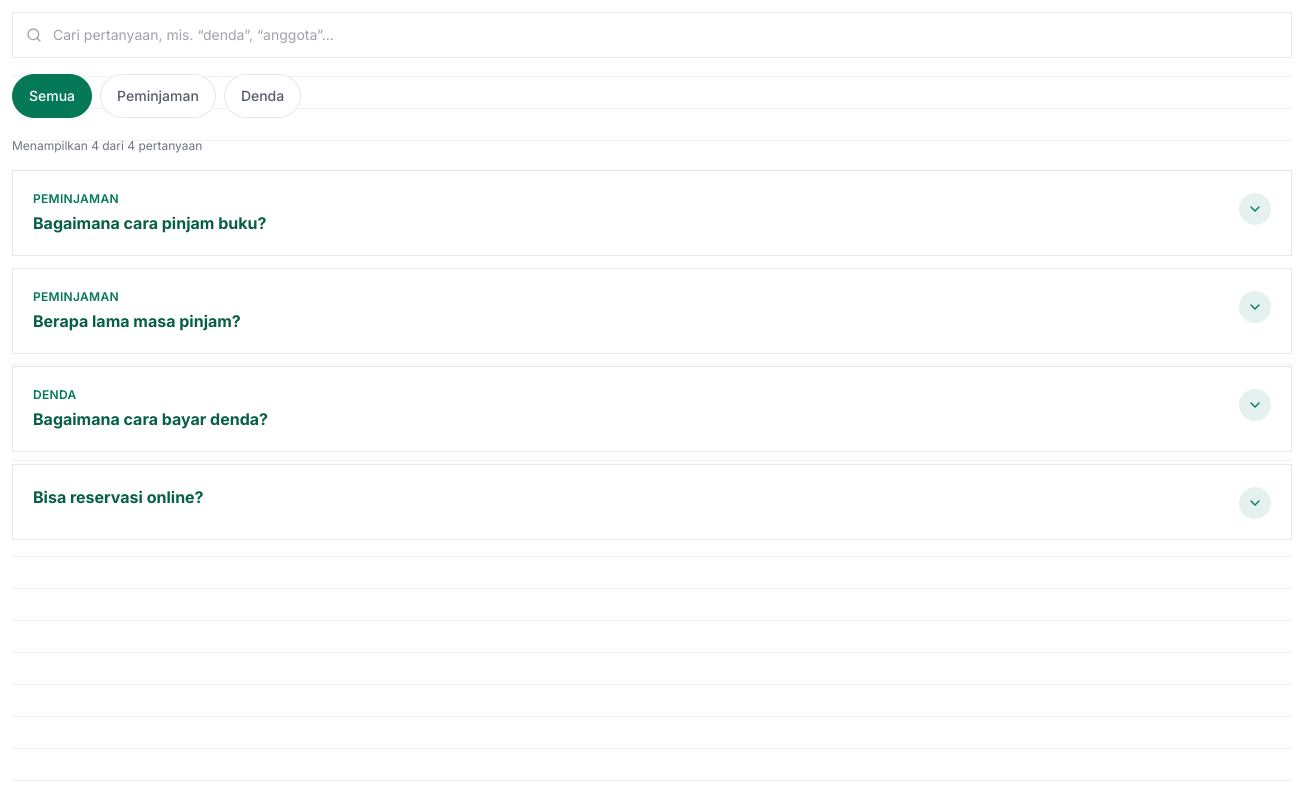
FaqAccordion › filters FAQs by category
Click the button "Peminjaman": (158, 96) [100,74,216,118]
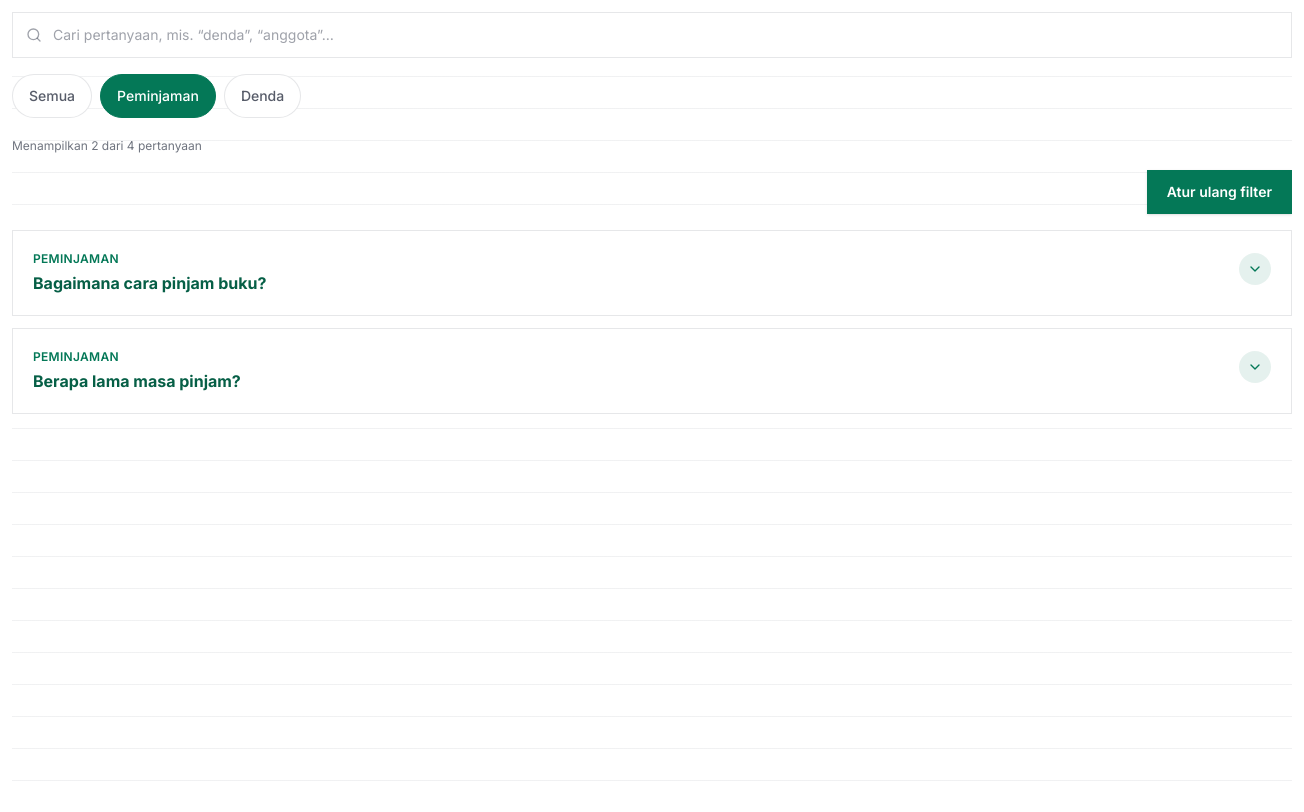
Check: the text "Bagaimana cara pinjam buku?" is shown, box [33,273,266,293]
Check: the heading "Bagaimana cara bayar denda?" is gone
